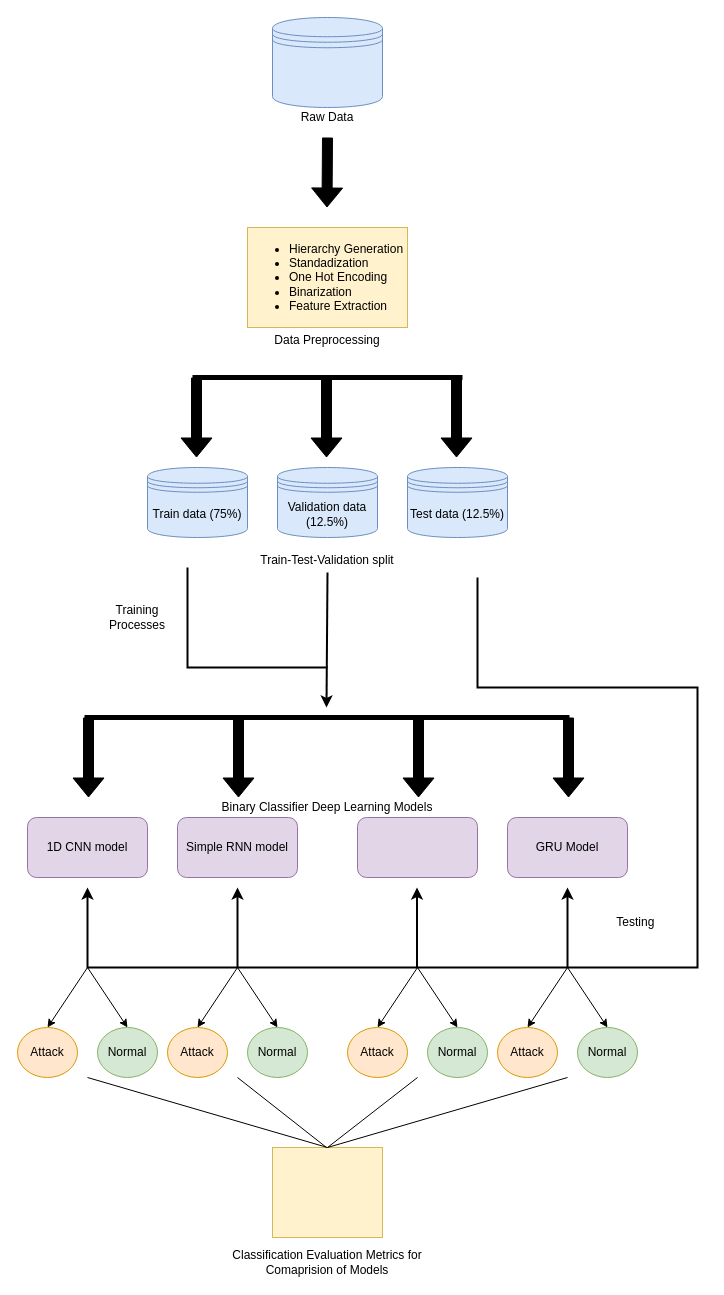
Some shapes in this 724 by 1295 pixel diagram are drawn without their labels. The centre of each missing label's shape, as x and y in pixels:
Accuracy Precision Recall Specificity F1 score: the point at 327,1192
LSTM model: the point at 417,847
NSL KDD Dataset (41+2 lables) (1Lakh+ rows): the point at 327,62
